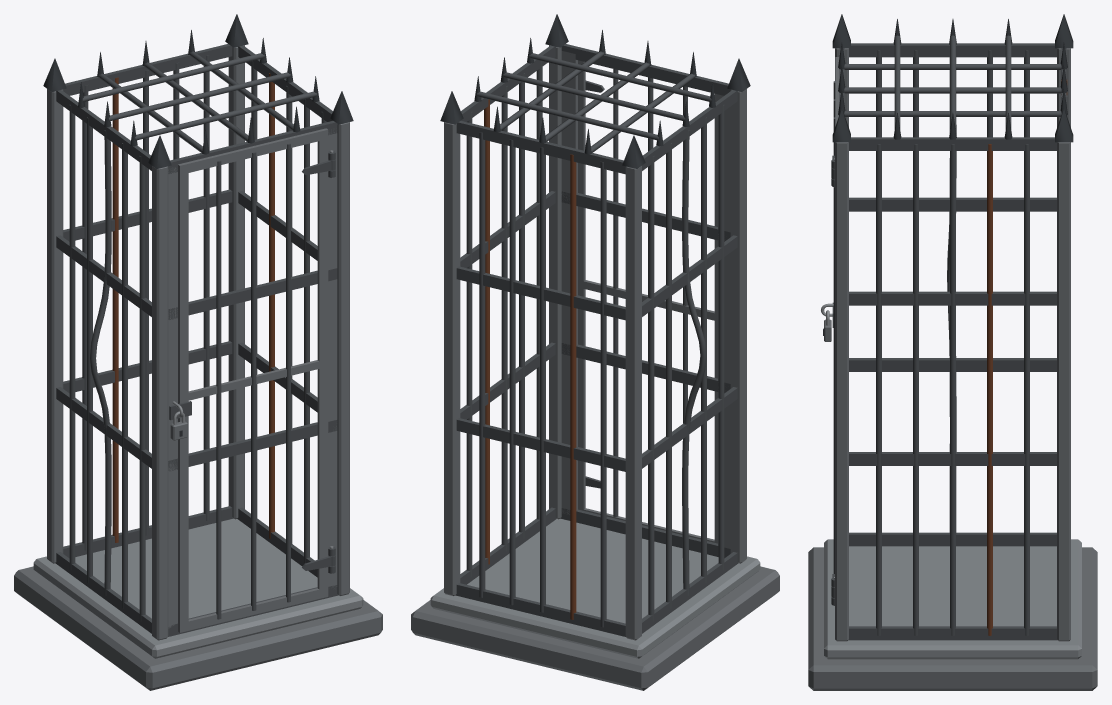
The model's file is SM_LPD_Prison_CageStanding_01.fbx.
The picture shows the model from 3 angles, left to right: view 1: azimuth 30°, elevation 25°; view 2: azimuth 150°, elevation 25°; view 3: azimuth 270°, elevation 25°; orthographic projection. The views are drawn at different scales.
Visible parts, largest first — view 1: SM_LPD_Prison_CageStanding_01; view 2: SM_LPD_Prison_CageStanding_01; view 3: SM_LPD_Prison_CageStanding_01.
Part boxes in pixels (x1,y1,x2,y2): SM_LPD_Prison_CageStanding_01: [14, 14, 382, 690]; SM_LPD_Prison_CageStanding_01: [411, 14, 779, 690]; SM_LPD_Prison_CageStanding_01: [808, 14, 1097, 690].
Size of the model in its own units: 1.12 by 2.44 by 1.12.
